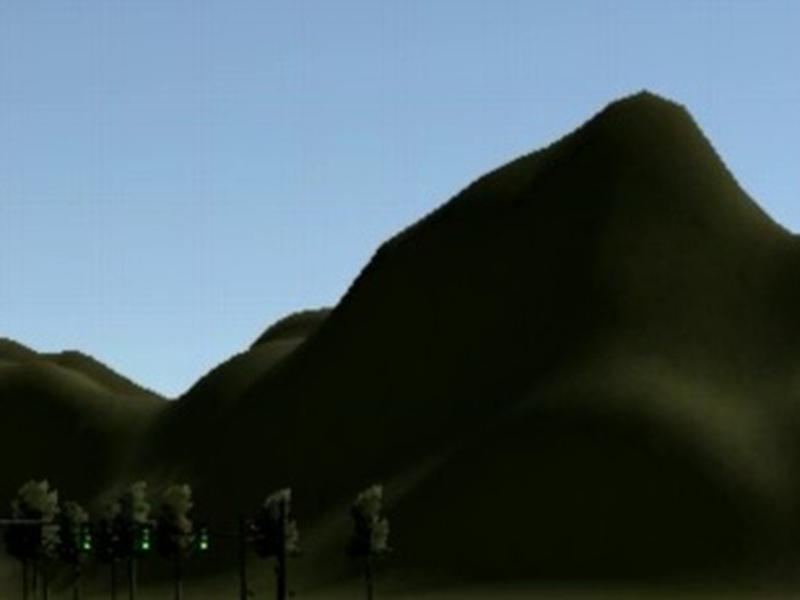Green: (80, 523, 95, 552), (139, 523, 153, 551), (198, 524, 210, 551)
